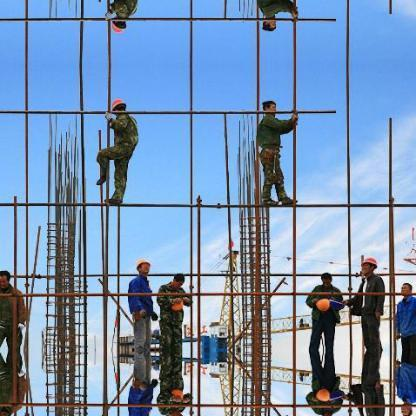helmet: (357, 254, 381, 270), (107, 97, 131, 112), (132, 256, 152, 273)
